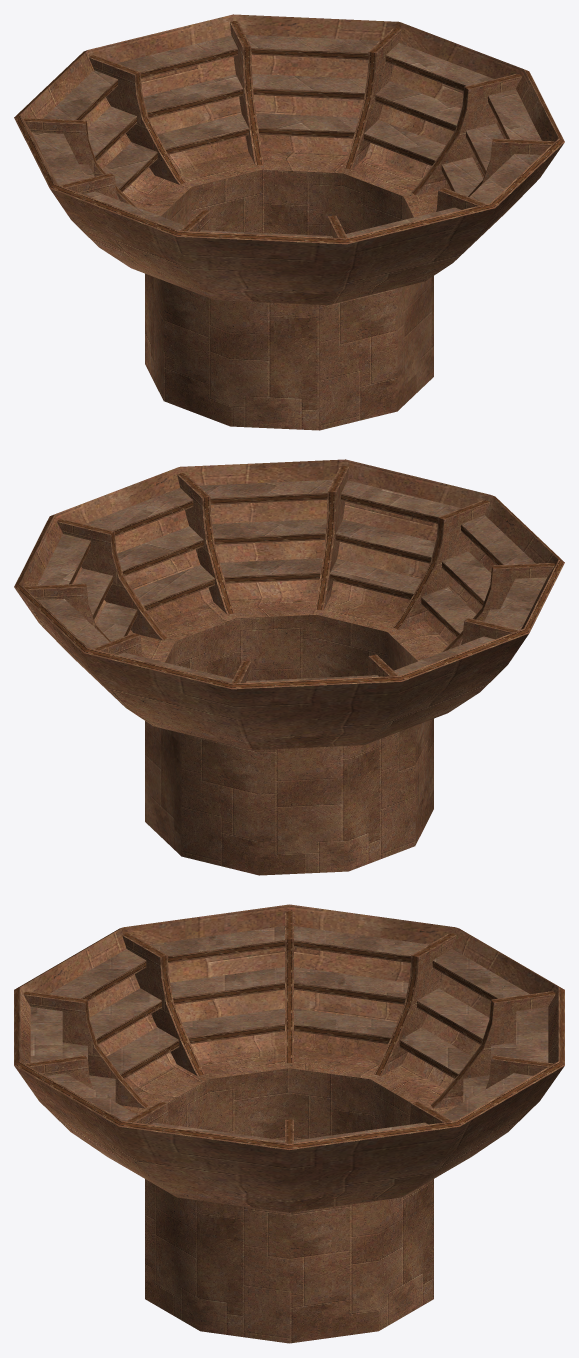
File: thm_tato_debris_s10_l1.fbx
The picture shows the model from 3 angles, top to bottom: view 1: azimuth 30°, elevation 25°; view 2: azimuth 150°, elevation 25°; view 3: azimuth 270°, elevation 25°; orthographic projection. The views are drawn at different scales.
Parts seen in each view (by area): view 1: mesh_node; view 2: mesh_node; view 3: mesh_node.
Part boxes in pixels (x1,y1,x2,y2): mesh_node: (14, 14, 564, 430); mesh_node: (14, 459, 564, 875); mesh_node: (14, 904, 564, 1343).
Size of the model in its own units: 6.53 by 3.17 by 6.21.
